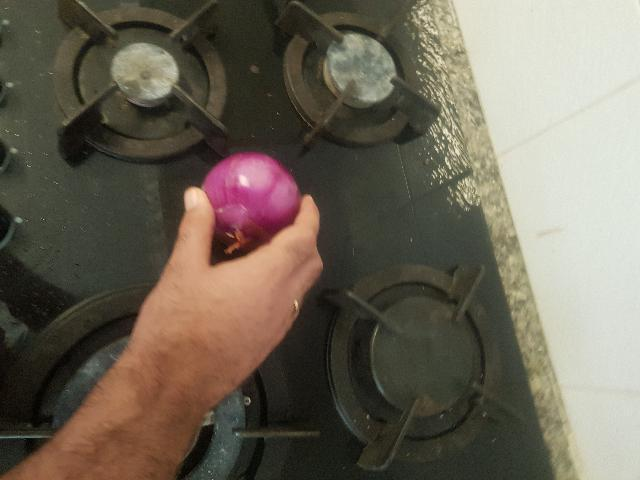onion: (197, 158, 294, 241)
